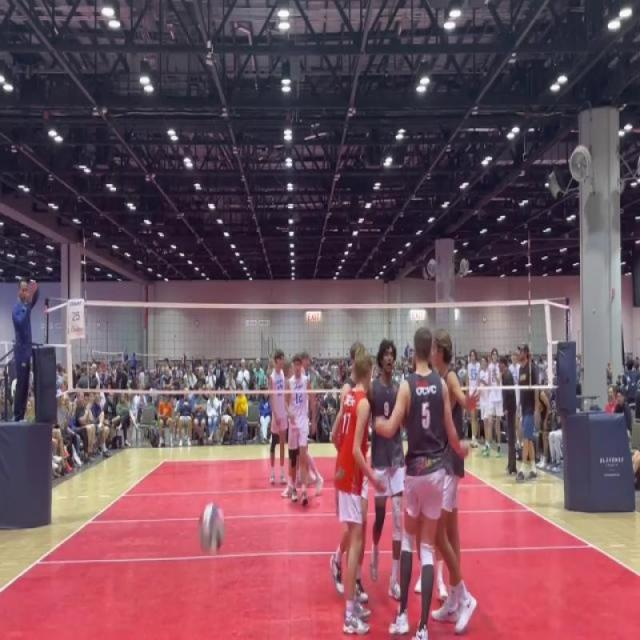volleyball: (195, 498, 228, 558)
